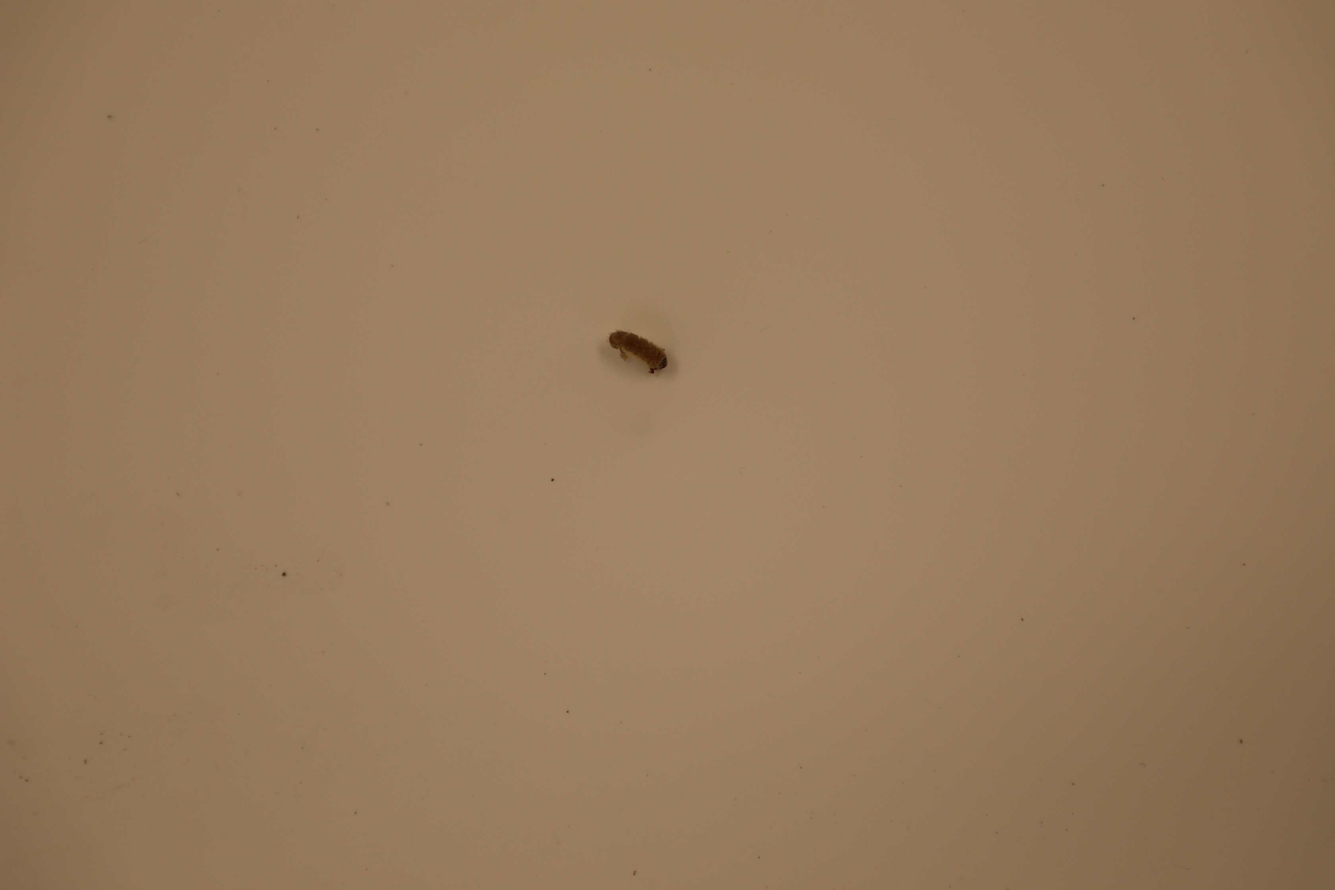Cadisfly: (604, 324, 670, 380)
